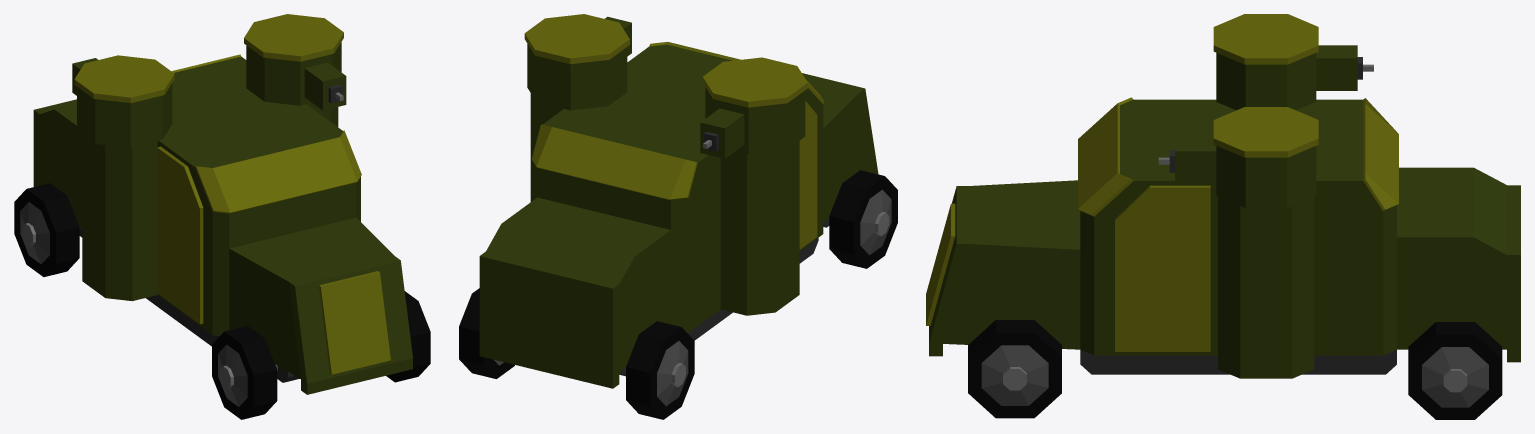
Rendered from Car.fbx.
3 views of the same model, side by side, from view 1: azimuth 30°, elevation 25°; view 2: azimuth 150°, elevation 25°; view 3: azimuth 270°, elevation 25° (orthographic). The views are drawn at different scales.
Visible parts, largest first — view 1: Cube.007, Cylinder.005, Cylinder.006; view 2: Cube.007, Cylinder.006, Cylinder.005; view 3: Cube.007, Cylinder.005, Cylinder.006.
Part boxes in pixels (x1,y1,x2,y2): Cube.007: (14, 54, 430, 419); Cylinder.005: (244, 14, 346, 110); Cylinder.006: (72, 55, 174, 147); Cube.007: (459, 41, 897, 419); Cylinder.006: (700, 57, 807, 158); Cylinder.005: (524, 14, 631, 110); Cube.007: (926, 97, 1520, 419); Cylinder.005: (1158, 107, 1318, 207); Cylinder.006: (1213, 14, 1373, 110).
Bounding box in the file's own units: 236 × 230 × 432.
